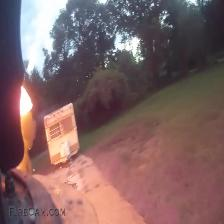fire: (20, 90, 30, 113)
